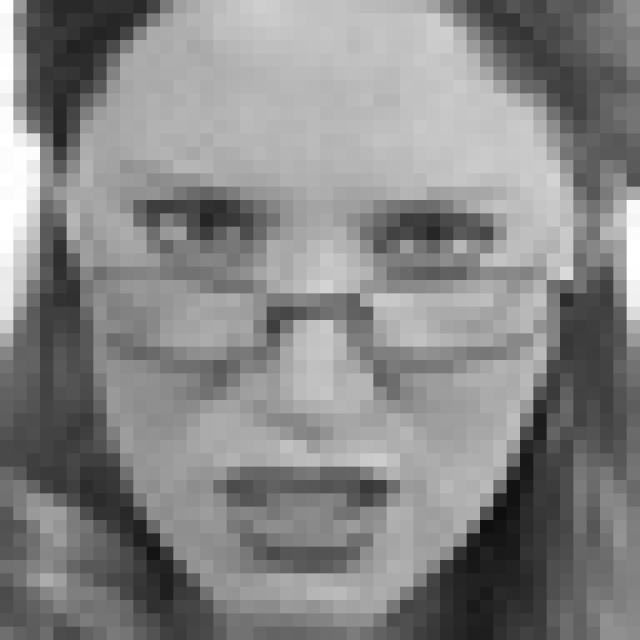angry: (120, 173, 522, 572)
